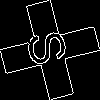S: (25, 25, 78, 69)
